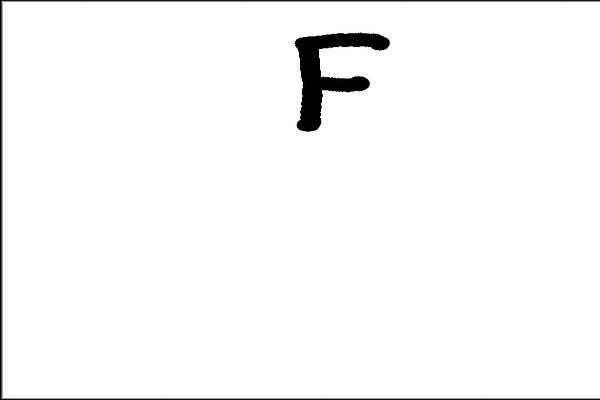F: (286, 28, 393, 134)
